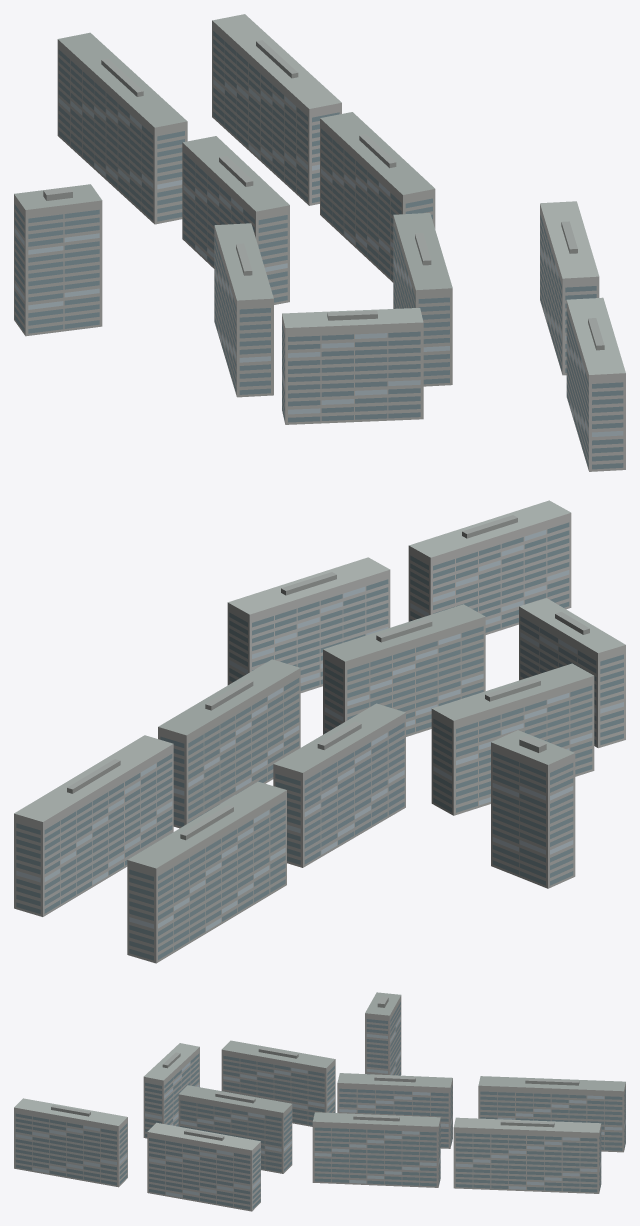
File: apt-a15606004.glb
3 views of the same model, one above another, from view 1: azimuth 30°, elevation 25°; view 2: azimuth 150°, elevation 25°; view 3: azimuth 270°, elevation 25° (orthographic). The views are drawn at different scales.
Parts seen in each view (by area): view 1: apt-a15606004; view 2: apt-a15606004; view 3: apt-a15606004.
Boxes of the visible parts, left/top/right/bottom form: apt-a15606004: left=14, top=14, right=625, bottom=471; apt-a15606004: left=14, top=500, right=625, bottom=963; apt-a15606004: left=14, top=992, right=625, bottom=1211.
Size of the model in its own units: 154 by 43 by 286.
